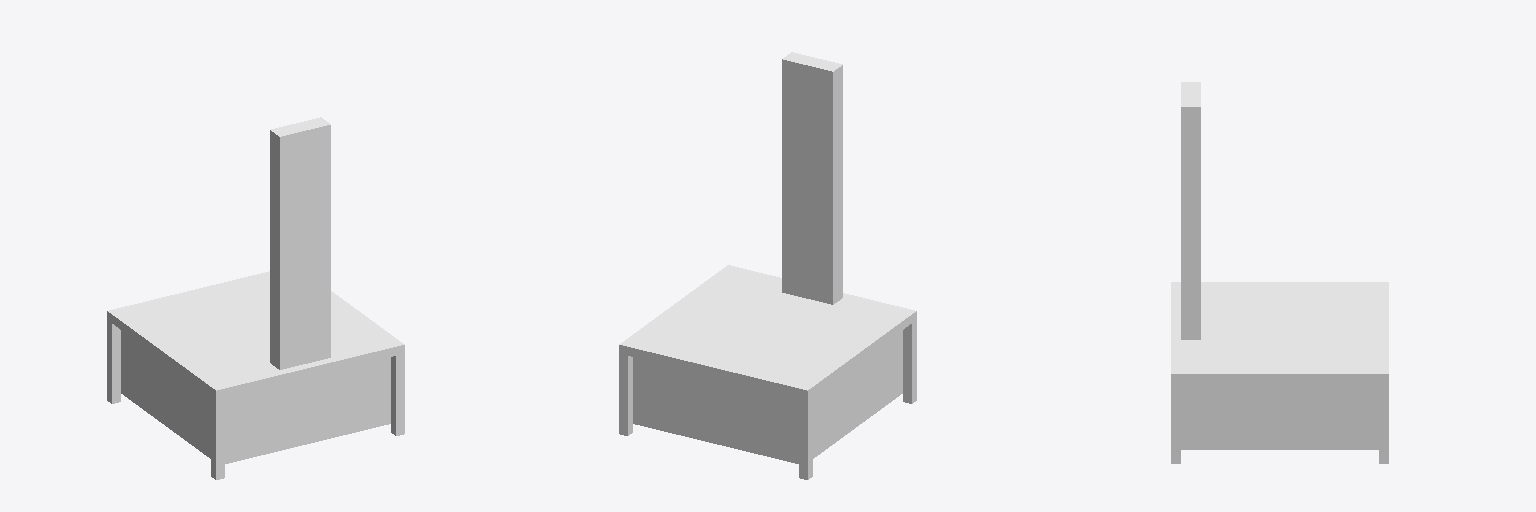
Rendered from Press-2-base.obj.
3 renders of one model, left to right at view 1: azimuth 30°, elevation 25°; view 2: azimuth 150°, elevation 25°; view 3: azimuth 270°, elevation 25°, orthographic.
Parts seen in each view (by area): view 1: base; view 2: base; view 3: base.
Boxes of the visible parts, x1,y1,x2,y2 form: base: [107, 117, 404, 479]; base: [619, 52, 916, 479]; base: [1171, 82, 1388, 463].
Size of the model in its own units: 2.2 by 3.6 by 2.2.